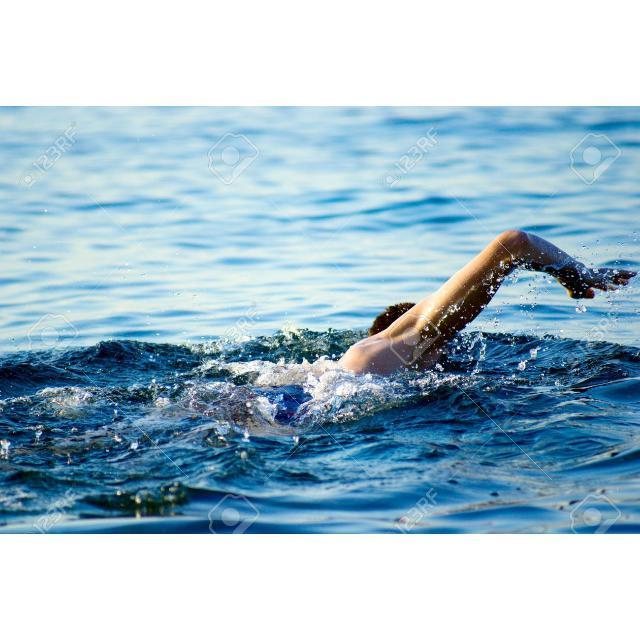human: (284, 223, 636, 417)
